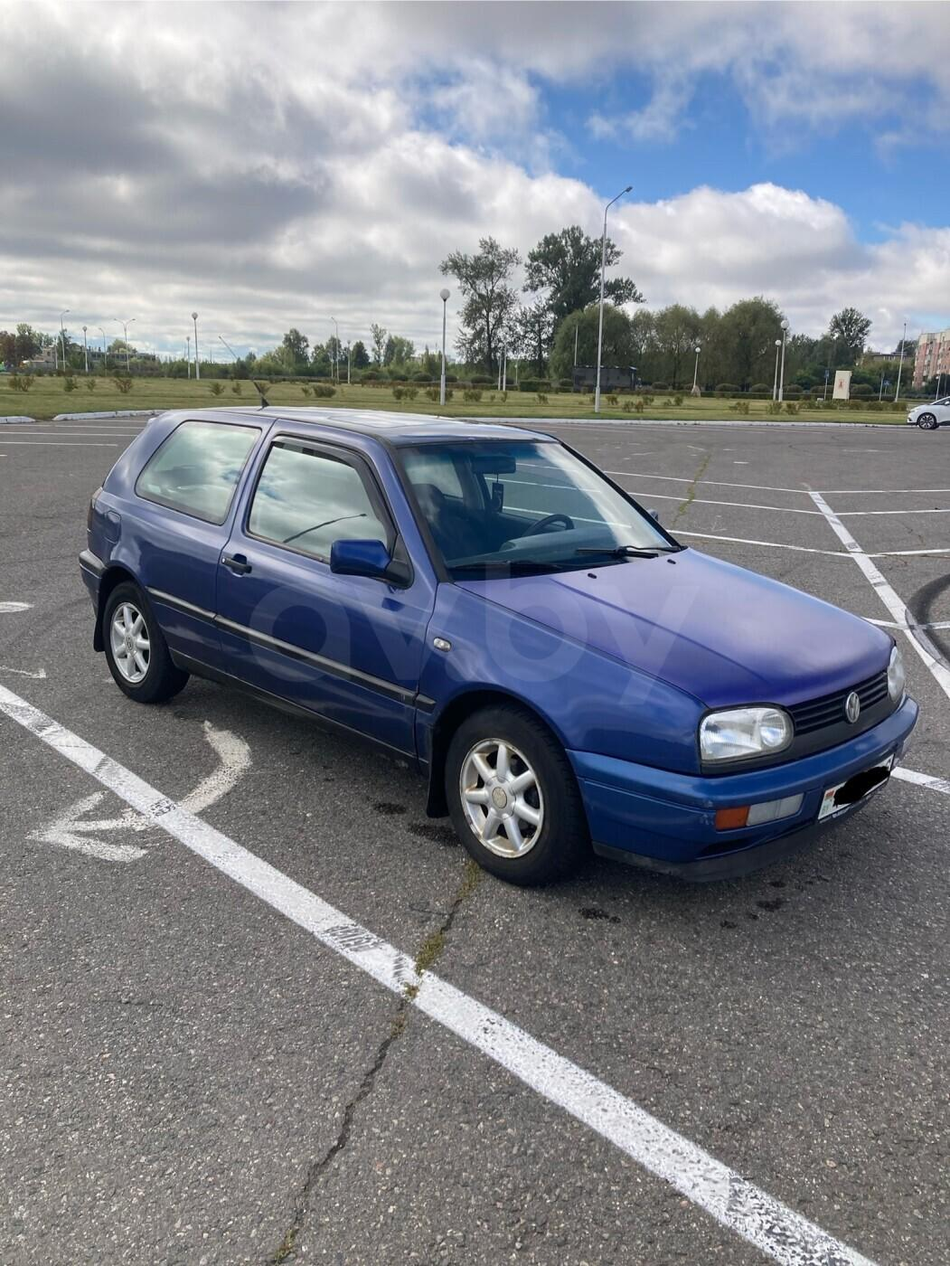Golf_1991-2000: (77, 396, 930, 886)
